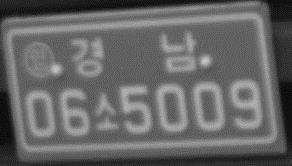0: (154, 81, 188, 134), (192, 81, 227, 132), (24, 89, 57, 140)
5: (118, 82, 152, 136)
6: (58, 86, 92, 137)
9: (228, 77, 263, 131)
경남_D: (68, 28, 198, 79)
소: (91, 91, 121, 132)
영: (23, 40, 56, 80)
